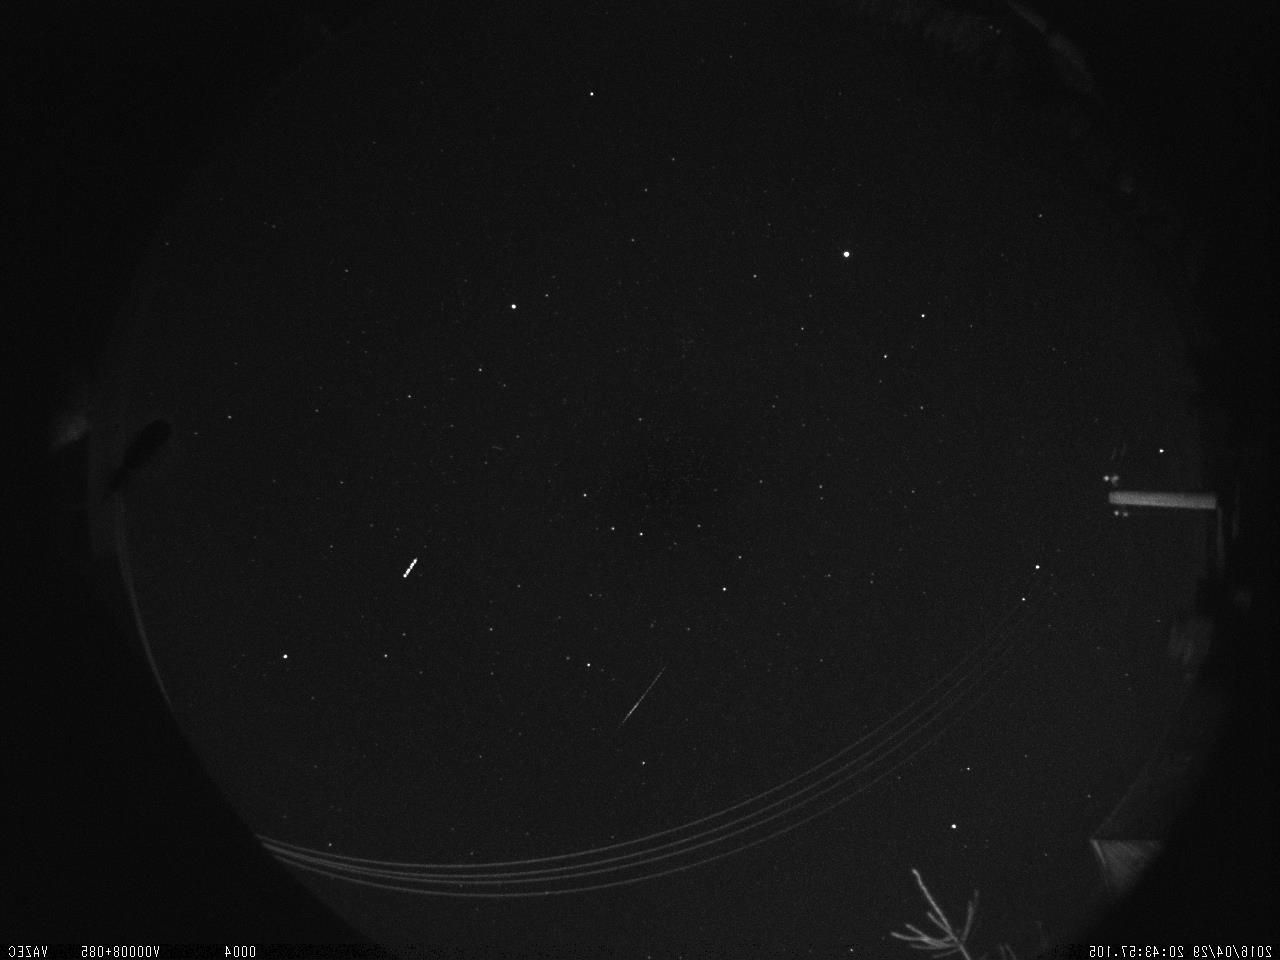meteor: (608, 663, 685, 731)
